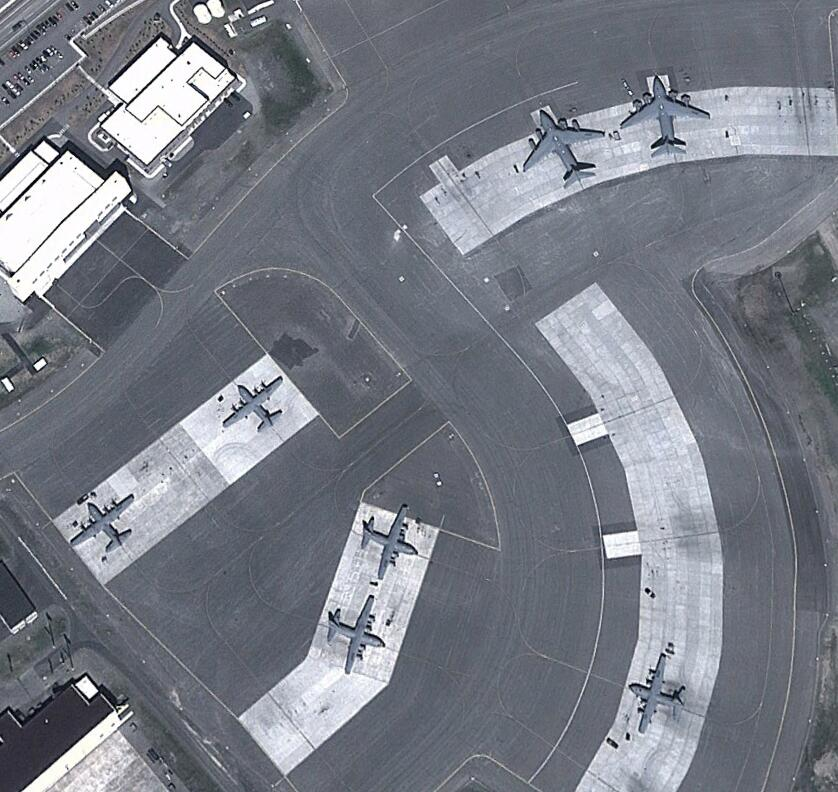A2: (628, 649, 687, 734), (328, 593, 385, 675), (362, 504, 419, 582), (69, 493, 137, 553), (223, 375, 287, 434)
A3: (621, 74, 712, 159), (523, 108, 605, 189)
